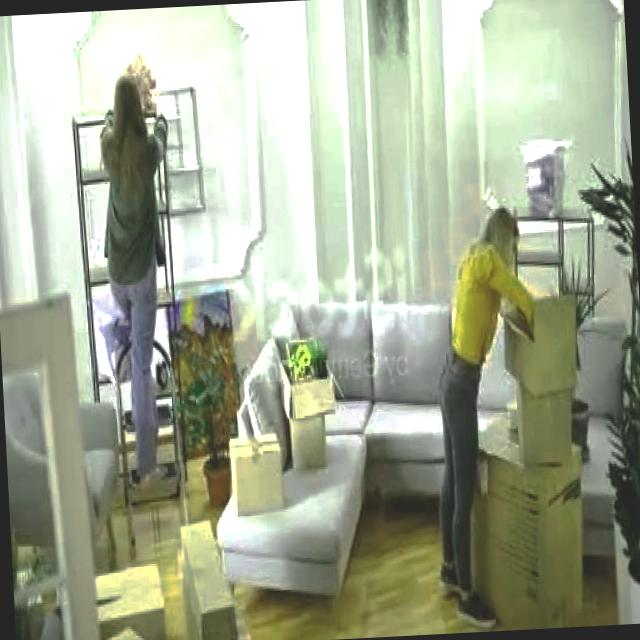Box: (484, 474, 588, 618), (87, 558, 173, 640), (502, 306, 578, 396), (177, 526, 234, 630), (225, 431, 288, 517), (276, 384, 331, 474), (520, 396, 577, 466)
